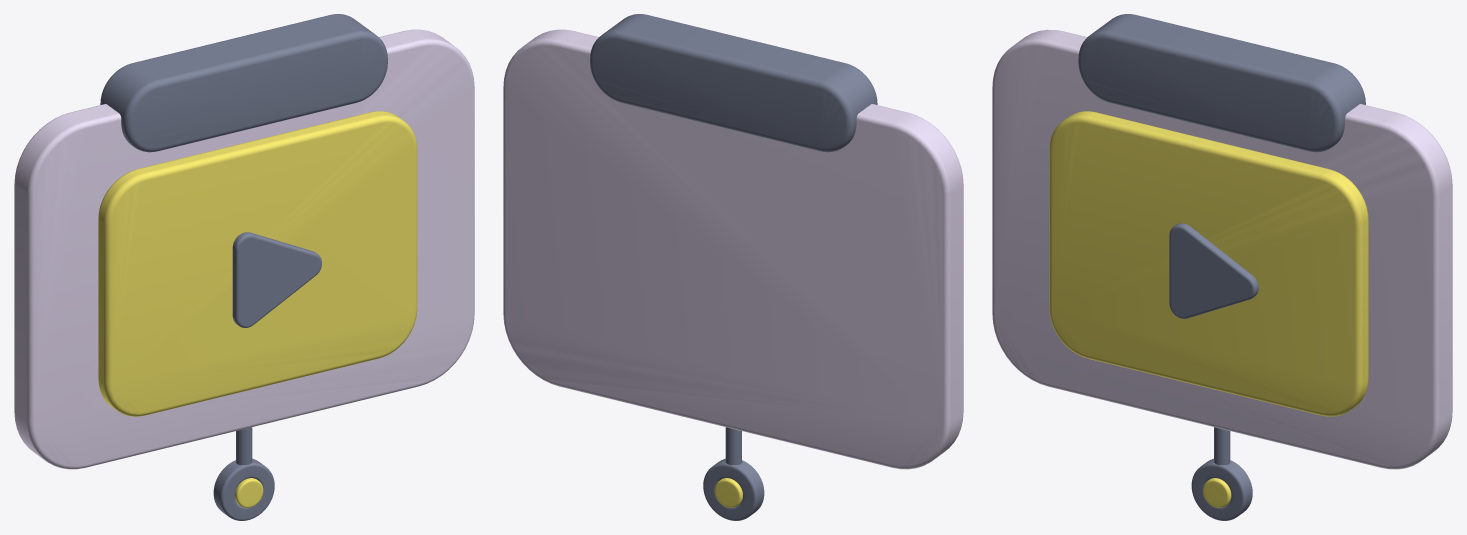
Rendered from Presentation.fbx.
The picture shows the model from 3 angles, left to right: view 1: azimuth 30°, elevation 25°; view 2: azimuth 150°, elevation 25°; view 3: azimuth 330°, elevation 25°; orthographic projection.
Visible parts, largest first — view 1: Plane_001, Plane, Cube, vid, Cylinder_001, Cylinder_002, Cylinder; view 2: Plane, Cube, Cylinder_001, Cylinder_002, Cylinder; view 3: Plane_001, Plane, Cube, vid, Cylinder_001, Cylinder_002, Cylinder.
Boxes of the visible parts, bbox=[...] form: Plane_001: bbox=[98, 111, 417, 416]; Plane: bbox=[14, 29, 474, 469]; Cube: bbox=[100, 14, 387, 152]; vid: bbox=[232, 232, 321, 327]; Cylinder_001: bbox=[213, 458, 274, 520]; Cylinder_002: bbox=[235, 478, 263, 507]; Cylinder: bbox=[236, 427, 252, 464]; Plane: bbox=[503, 29, 963, 469]; Cube: bbox=[590, 14, 877, 152]; Cylinder_001: bbox=[703, 458, 764, 520]; Cylinder_002: bbox=[714, 478, 742, 507]; Cylinder: bbox=[725, 427, 741, 464]; Plane_001: bbox=[1049, 111, 1368, 416]; Plane: bbox=[992, 29, 1452, 469]; Cube: bbox=[1078, 14, 1365, 152]; vid: bbox=[1169, 223, 1258, 318]; Cylinder_001: bbox=[1191, 458, 1252, 520]; Cylinder_002: bbox=[1203, 478, 1231, 507]; Cylinder: bbox=[1214, 427, 1230, 464].
Size of the model in its own units: 249 by 251 by 36.46.
